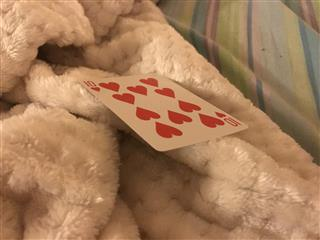TenOfHearts: (77, 72, 248, 152)
